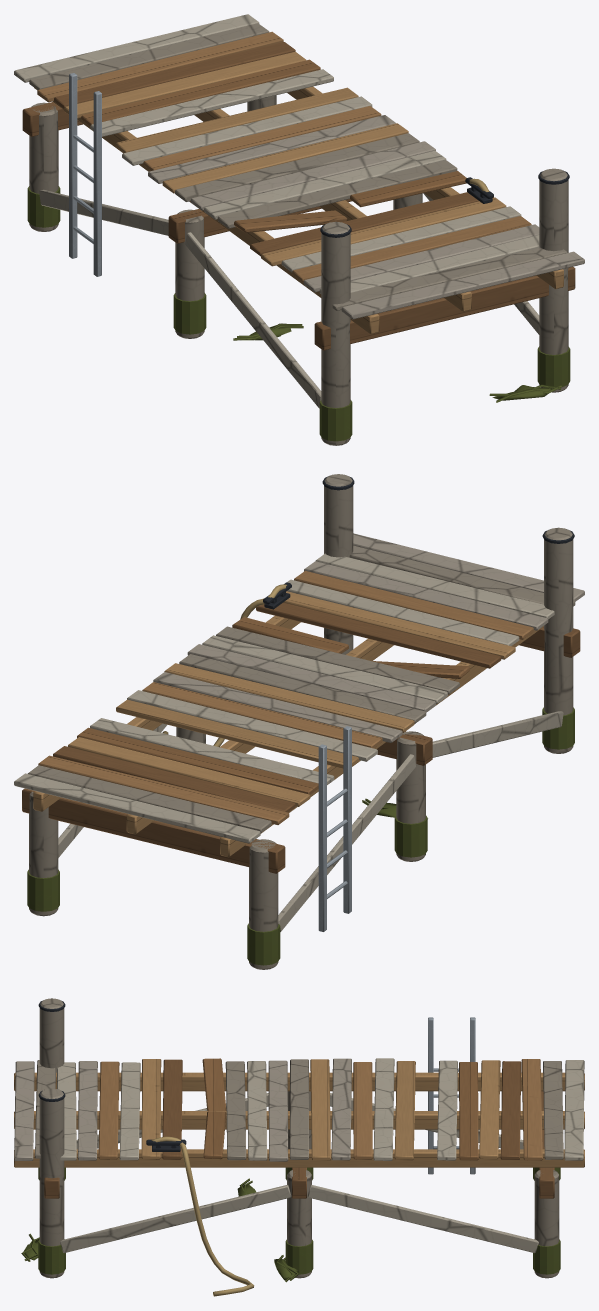
File: dock_pier_section.glb
The picture shows the model from 3 angles, top to bottom: view 1: azimuth 30°, elevation 25°; view 2: azimuth 150°, elevation 25°; view 3: azimuth 270°, elevation 25°; orthographic projection. The views are drawn at different scales.
Visible parts, largest first — view 1: dock_pier_section; view 2: dock_pier_section; view 3: dock_pier_section.
Part boxes in pixels (x1=…): dock_pier_section: x1=14, y1=14, x2=584, y2=445; dock_pier_section: x1=14, y1=474, x2=584, y2=969; dock_pier_section: x1=14, y1=998, x2=584, y2=1296.
Bounding box in the file's own units: 3.22 × 2.1 × 6.
15 materials, 15 textured.
